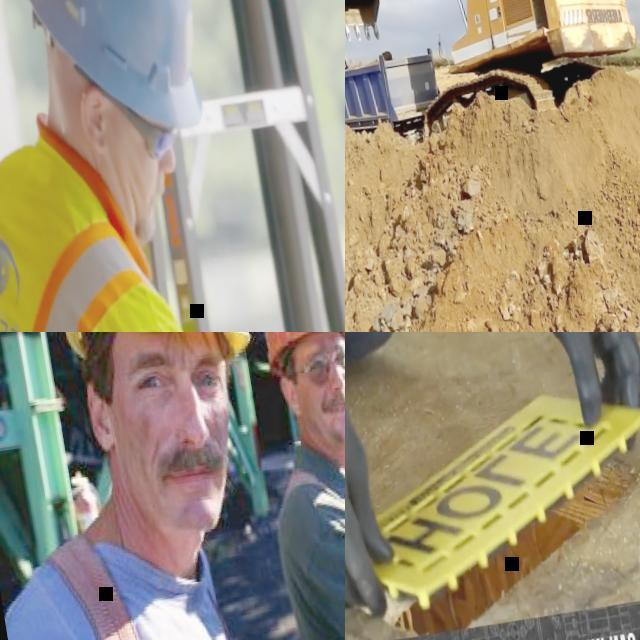helmet: (7, 0, 211, 146), (251, 332, 345, 376)
vest: (0, 123, 207, 332)
